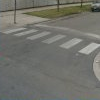crosswalk: (2, 27, 99, 54)
